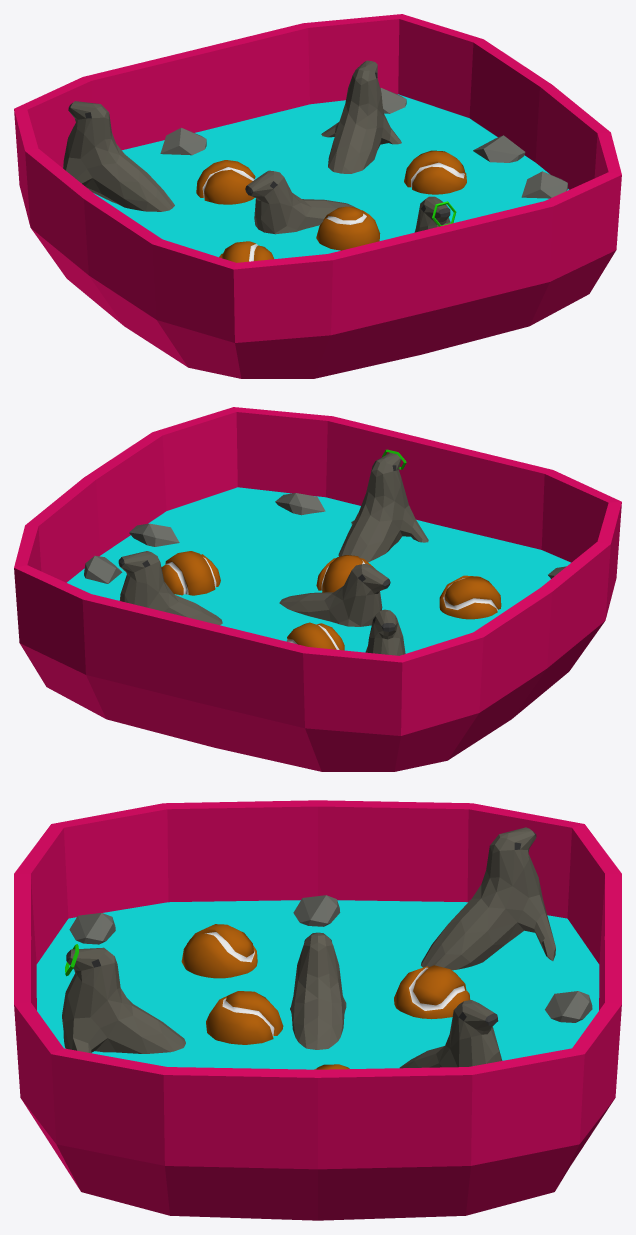
The model's file is Level 3 seal bath.fbx.
3 views of the same model, one above another, from view 1: azimuth 30°, elevation 25°; view 2: azimuth 150°, elevation 25°; view 3: azimuth 270°, elevation 25° (orthographic). The views are drawn at different scales.
Visible parts, largest first — view 1: Zoo level tub; view 2: Zoo level tub; view 3: Zoo level tub.
Part boxes in pixels (x1=…): Zoo level tub: x1=14, y1=14, x2=621, y2=378; Zoo level tub: x1=14, y1=407, x2=621, y2=771; Zoo level tub: x1=14, y1=800, x2=621, y2=1220.
Size of the model in its own units: 340 by 126 by 315.
